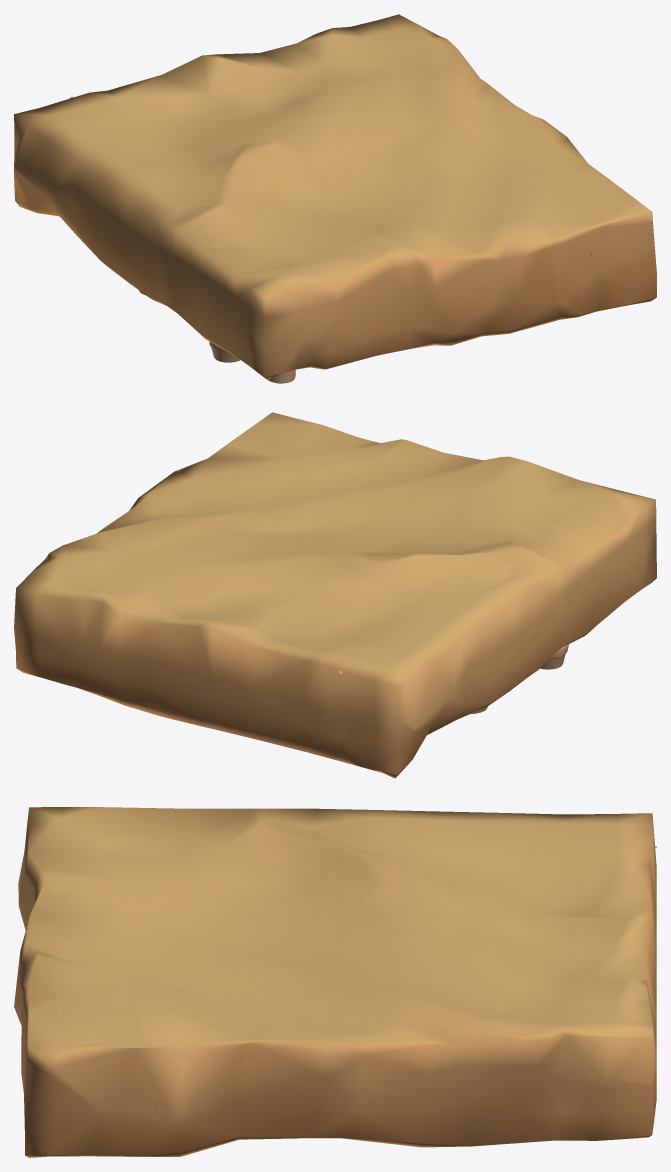
3 views of the same model, one above another, from view 1: azimuth 30°, elevation 25°; view 2: azimuth 150°, elevation 25°; view 3: azimuth 270°, elevation 25° (orthographic). The views are drawn at different scales.
Bounding box in the file's own units: 0.8911 × 0.3003 × 0.9995.
Materials: 1 (1 with a texture image).
